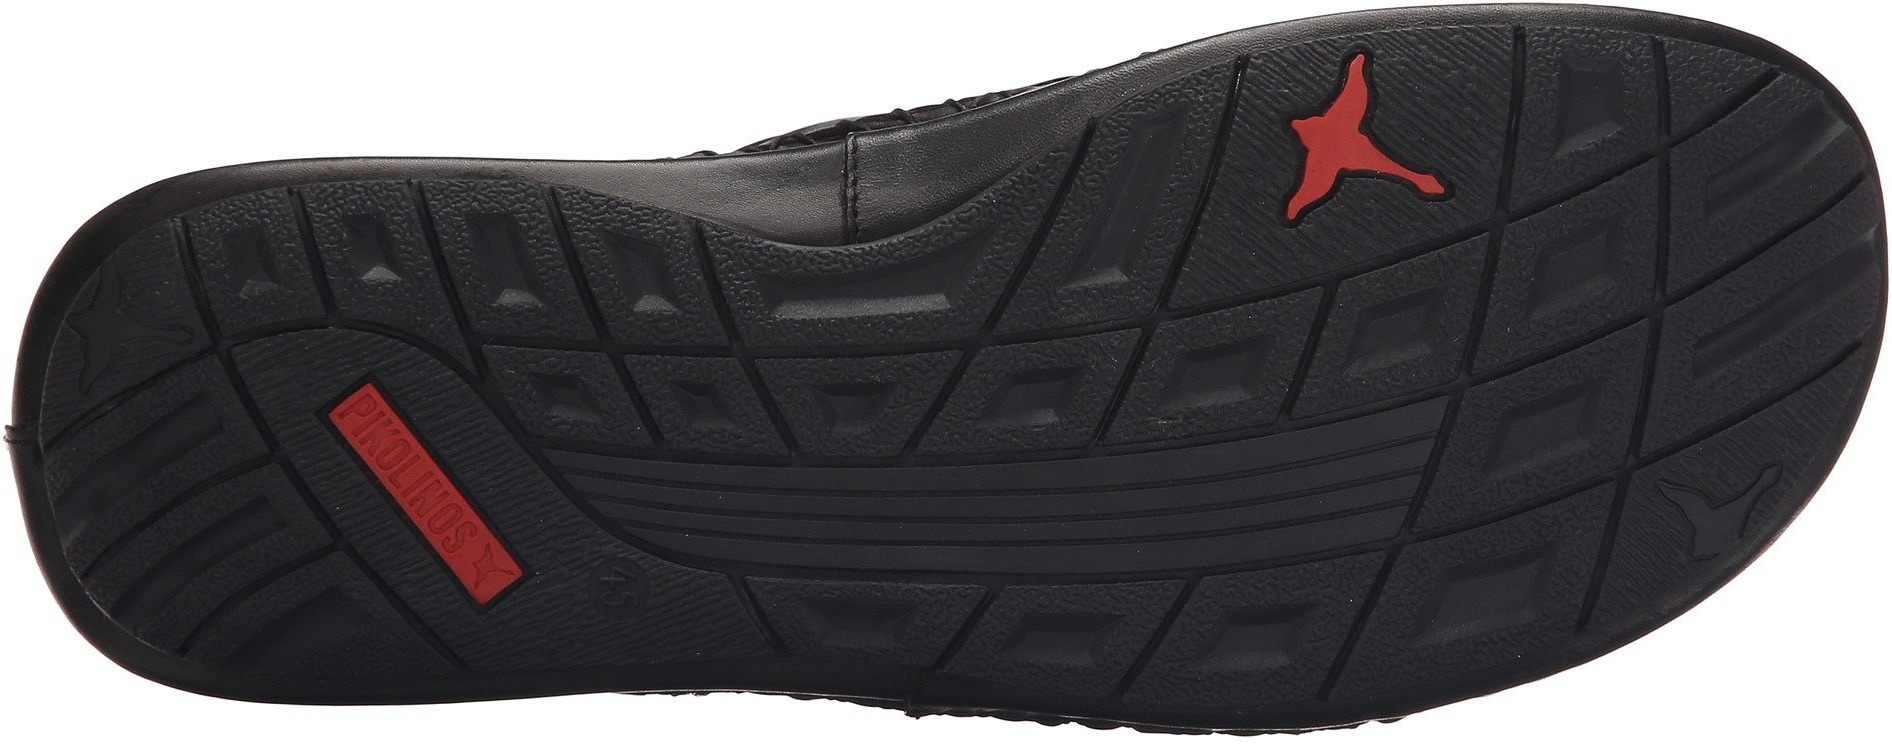quad: (1489, 232, 1760, 461), (466, 205, 708, 440), (97, 424, 299, 638), (897, 275, 1116, 449), (995, 572, 1221, 732), (211, 163, 424, 332), (1209, 247, 1409, 418)
text: (396, 459, 449, 521), (339, 393, 391, 444)
